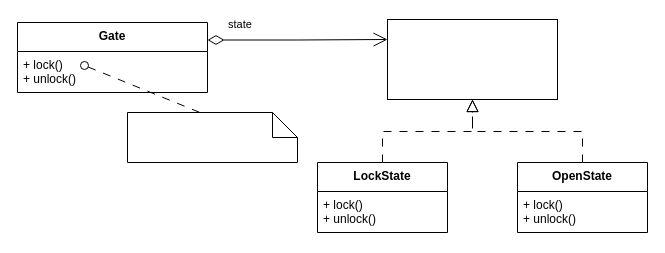
Some shapes in this 665 by 253 pixel diagram are drawn without their labels. Here are the shapes that lost their labels. From the top down, the centre of each, then its label:
At (472,59): "<<Interface>> State + lock() + unlock()".
At (212,137): "this.state.lock()".
